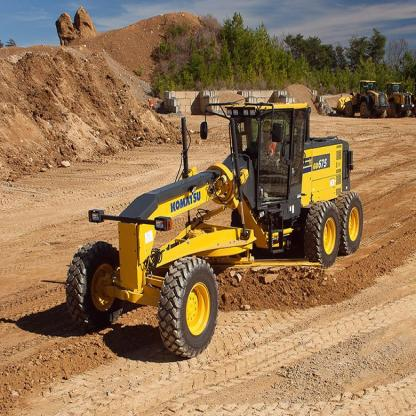bull_dozer/loader/grader: (36, 97, 378, 362)
